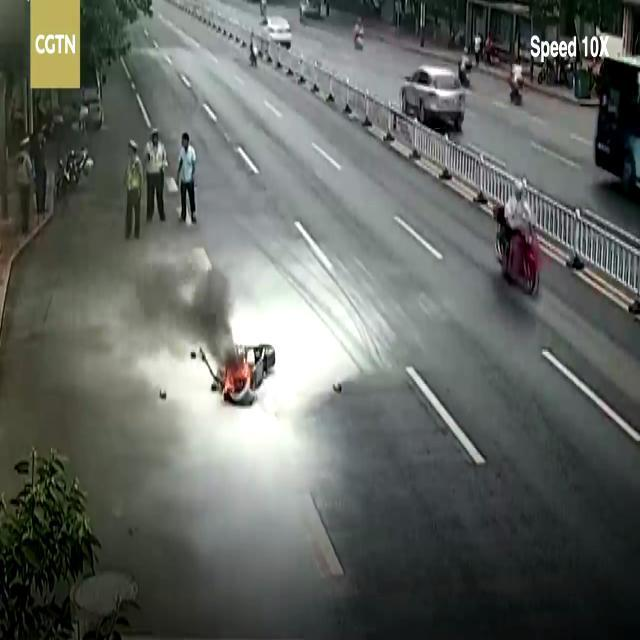Fire: (227, 356, 251, 392)
Smoke: (88, 242, 234, 356)
